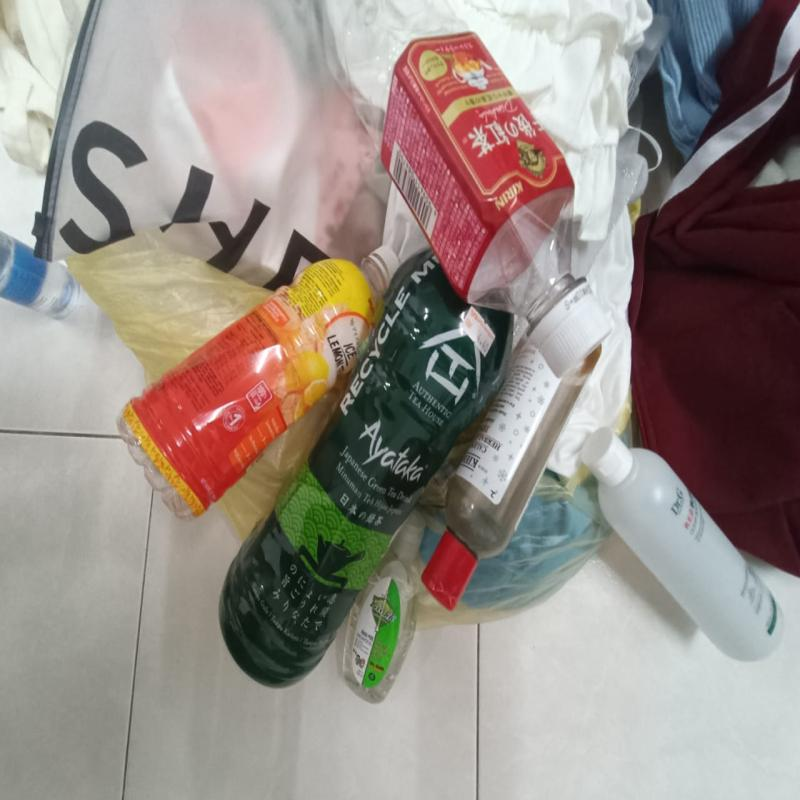botella: (212, 246, 532, 690), (313, 0, 614, 388), (123, 242, 406, 510)
